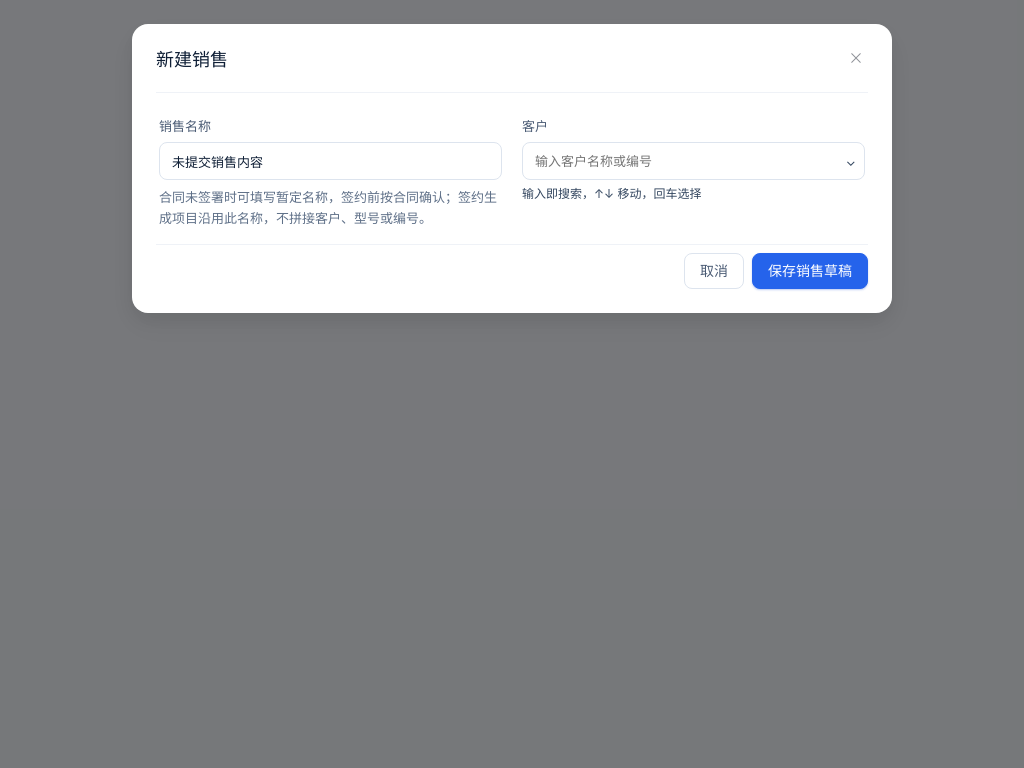
Test: 选择器就近建档 › 嵌套建档弹窗按 Escape 只关闭子弹窗，保留父弹窗及原填写内容
Focus the dropdown labelled "客户". click: (694, 161)
box: x1=522 y1=142 x2=865 y2=180
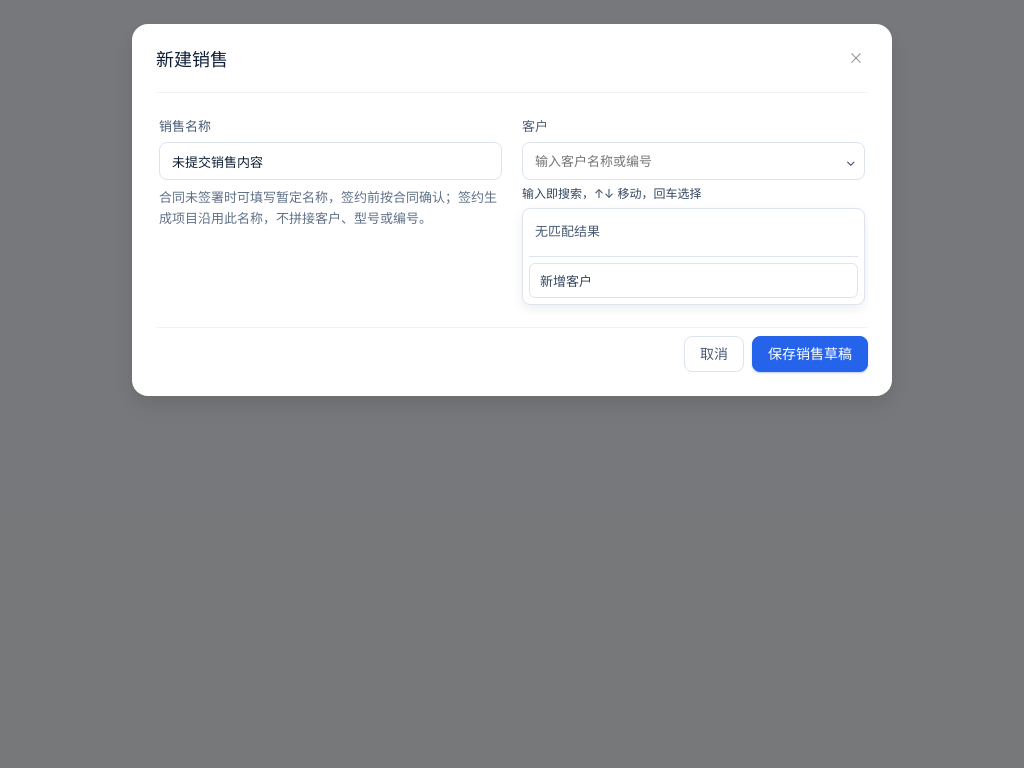
Click the button "新增客户". click: (566, 281)
box: x1=529 y1=263 x2=858 y2=298
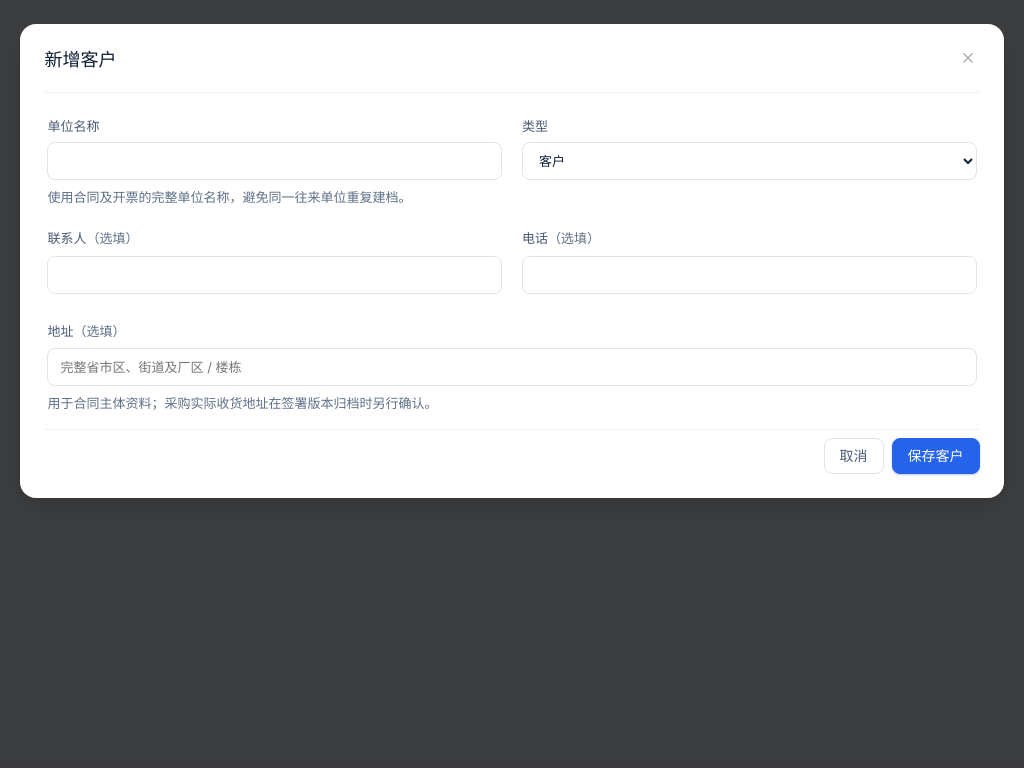
Check: the number of elements with class "action-dialog" is 2, box x1=132 y1=24 x2=892 y2=396; x1=20 y1=24 x2=1004 y2=498
Press Escape in the field named "单位名称", box x1=48 y1=142 x2=502 y2=180
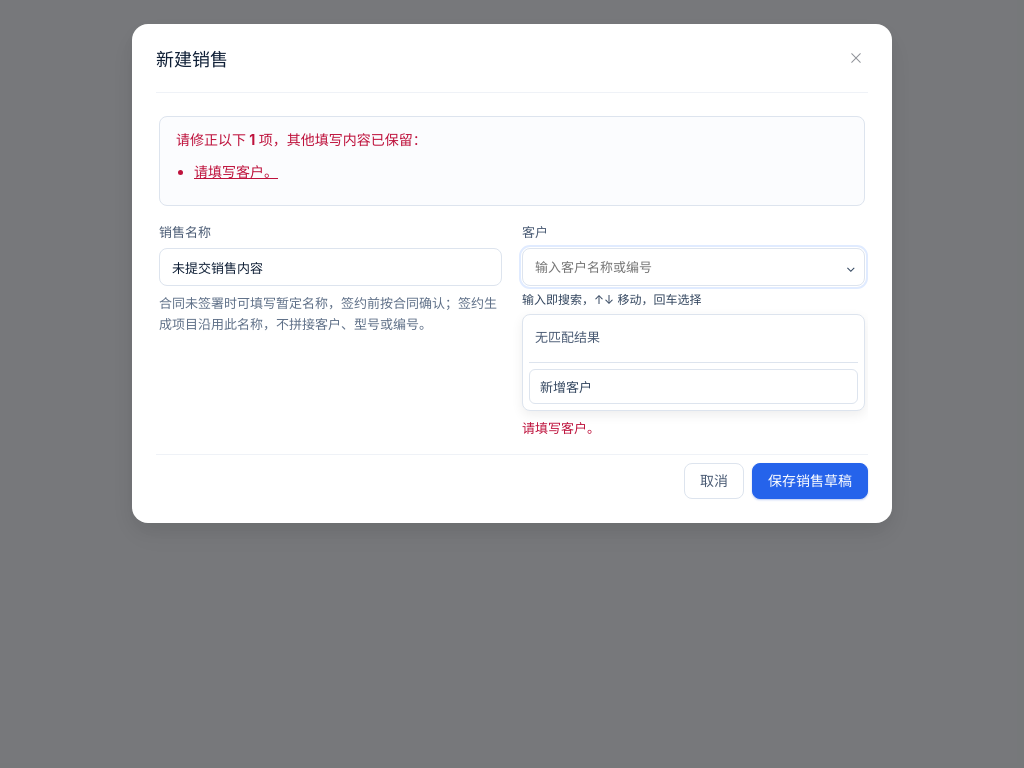
Check: the field named "销售名称" holds "未提交销售内容", box x1=159 y1=248 x2=502 y2=286
Check: the number of elements with class "action-dialog" is 1, box x1=132 y1=24 x2=892 y2=523
